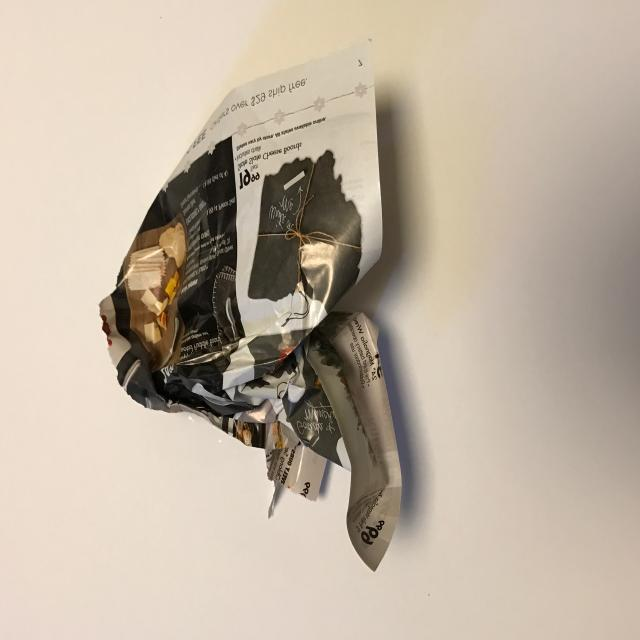paper: (87, 27, 427, 575)
